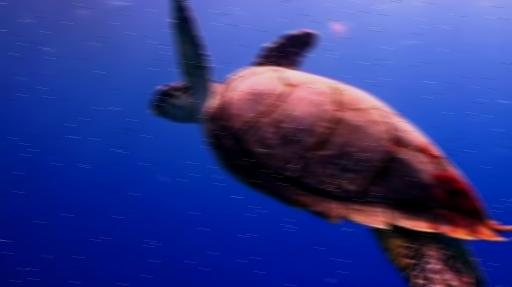Fish: (151, 0, 511, 286)
